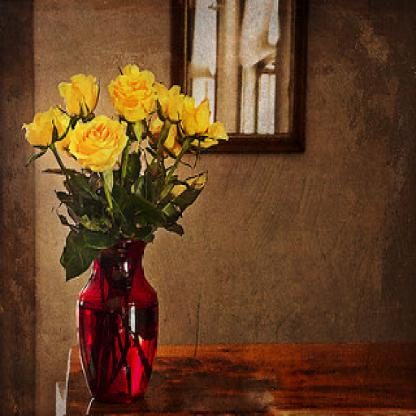ROSE-MAWAR: (17, 62, 233, 175)
